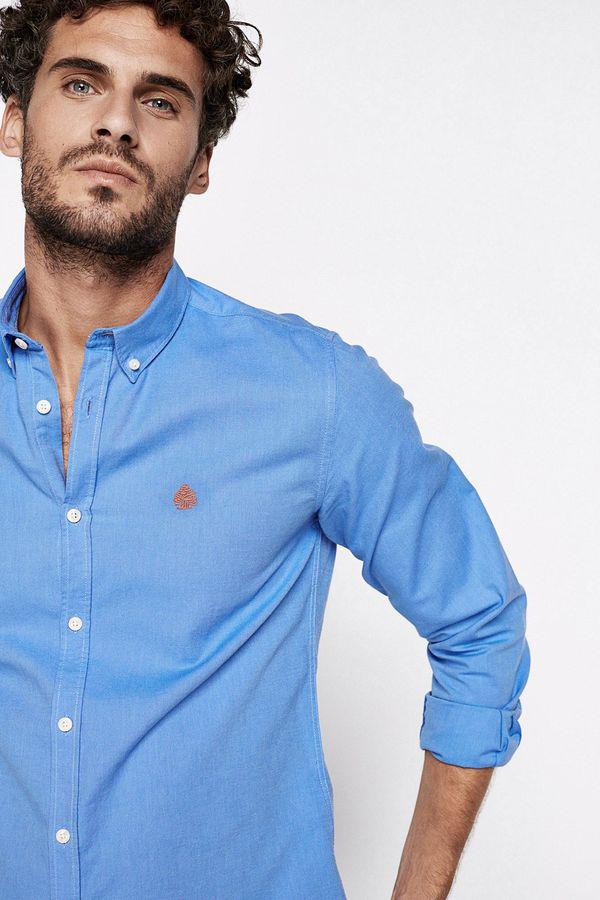teeshirt: (1, 260, 555, 894)
